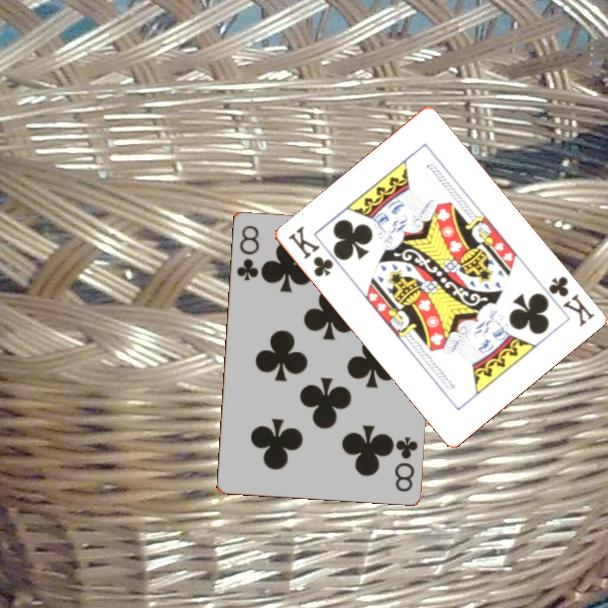c08: (233, 222, 262, 283), (391, 433, 420, 494)
c13: (544, 273, 597, 330), (284, 222, 336, 280)
